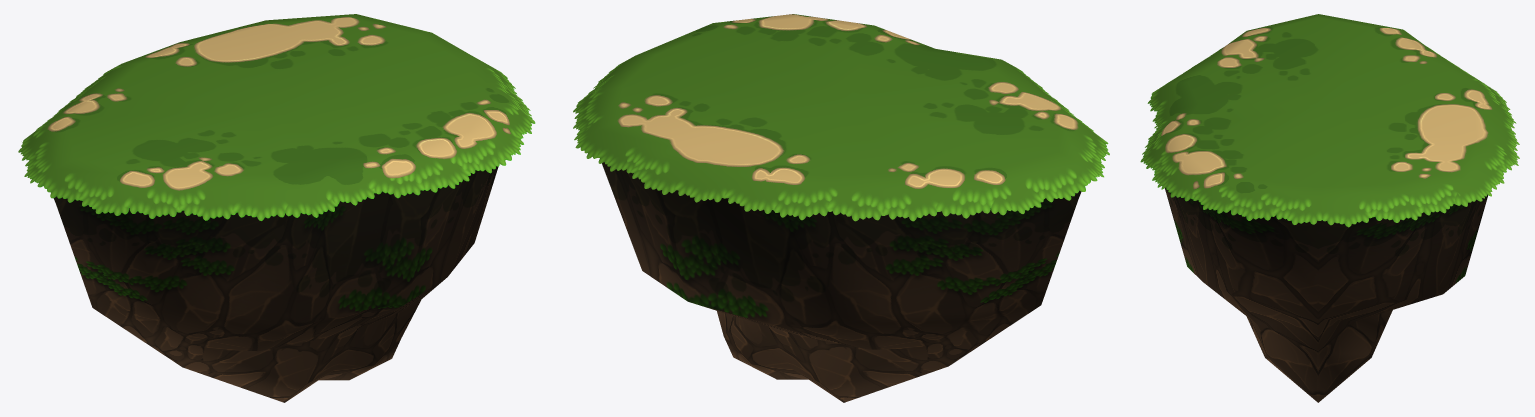
File: oneisland.glb
The picture shows the model from 3 angles, left to right: view 1: azimuth 30°, elevation 25°; view 2: azimuth 150°, elevation 25°; view 3: azimuth 270°, elevation 25°; orthographic projection. The views are drawn at different scales.
Parts seen in each view (by area): view 1: Object012; view 2: Object012; view 3: Object012.
Part boxes in pixels (<box>): Object012: <box>18,14,535,402</box>; Object012: <box>573,14,1109,402</box>; Object012: <box>1140,14,1519,402</box>.
Size of the model in its own units: 8.56 by 5.02 by 6.58.
Materials: 1 (1 with a texture image).
